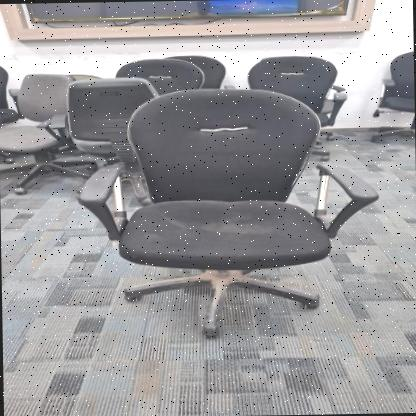chair: (71, 81, 385, 336), (62, 69, 172, 177), (242, 48, 348, 154), (0, 67, 82, 189)
